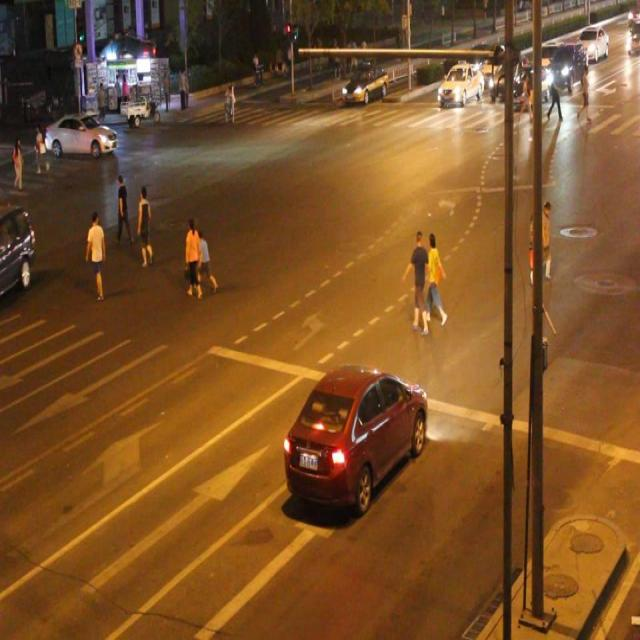car: (283, 364, 427, 515), (45, 112, 119, 158), (1, 204, 35, 301), (435, 65, 483, 107), (341, 66, 388, 105)
